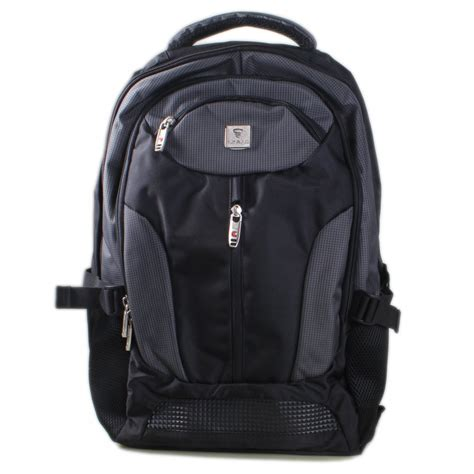nylon: (83, 41, 391, 460)
